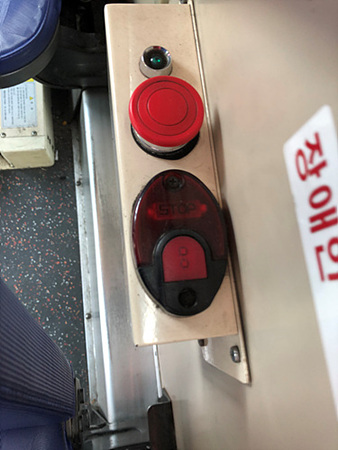bell: (129, 167, 229, 319)
